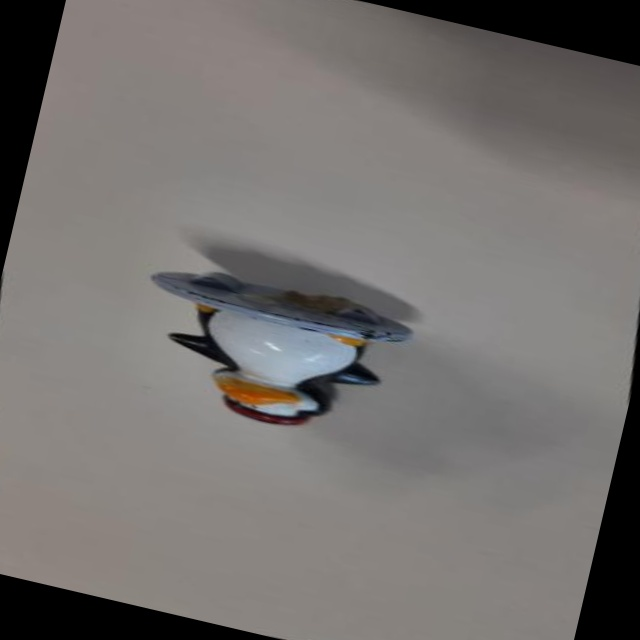Penguin: (134, 256, 421, 459)
